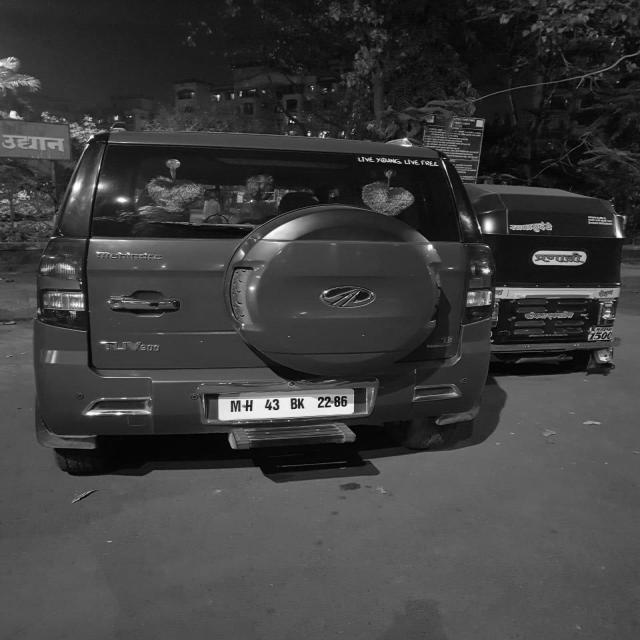car: (16, 122, 496, 472)
license-plate: (200, 390, 367, 425)
